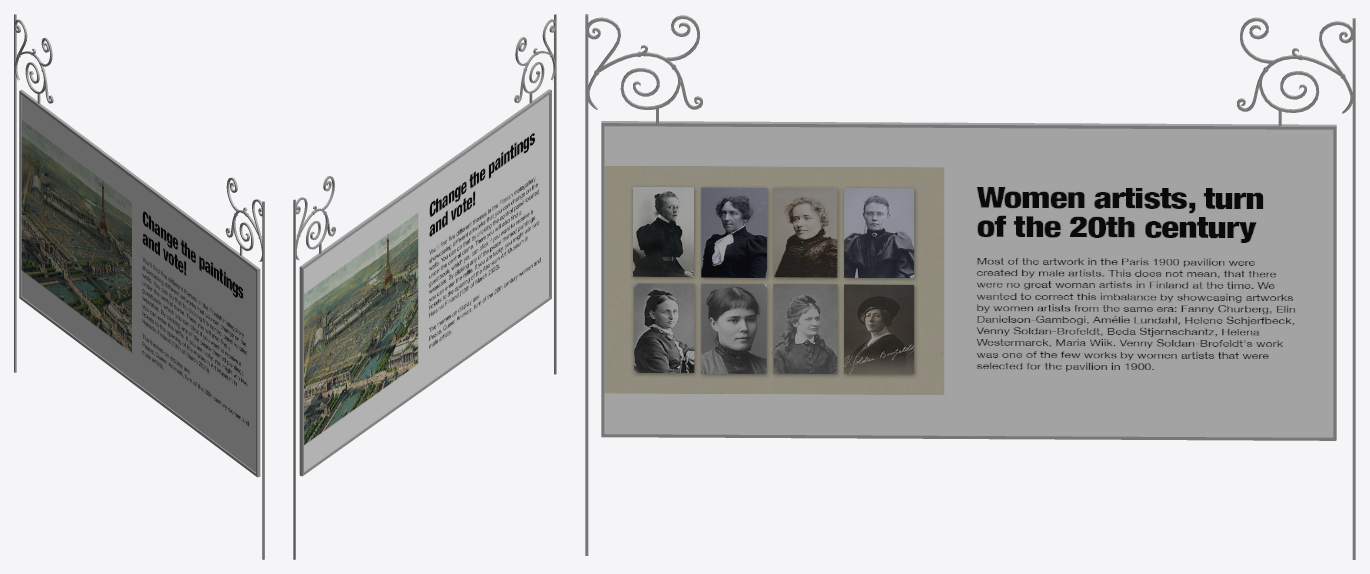
The model's file is WOMEN.glb.
3 renders of one model, left to right at view 1: azimuth 30°, elevation 25°; view 2: azimuth 150°, elevation 25°; view 3: azimuth 270°, elevation 25°, orthographic. The views are drawn at different scales.
Visible parts, largest first — view 1: Plane.016; view 2: Plane.016; view 3: Plane.016.
Boxes of the visible parts, <box> form: Plane.016: <box>14,14,264,559</box>; Plane.016: <box>293,14,556,559</box>; Plane.016: <box>585,14,1355,559</box>.
Size of the model in its own units: 0.0757 by 3.23 by 4.17.
Materials: 3 (2 with a texture image).
